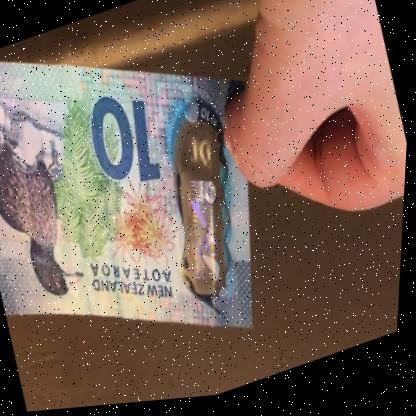10F: (161, 131, 252, 303)
